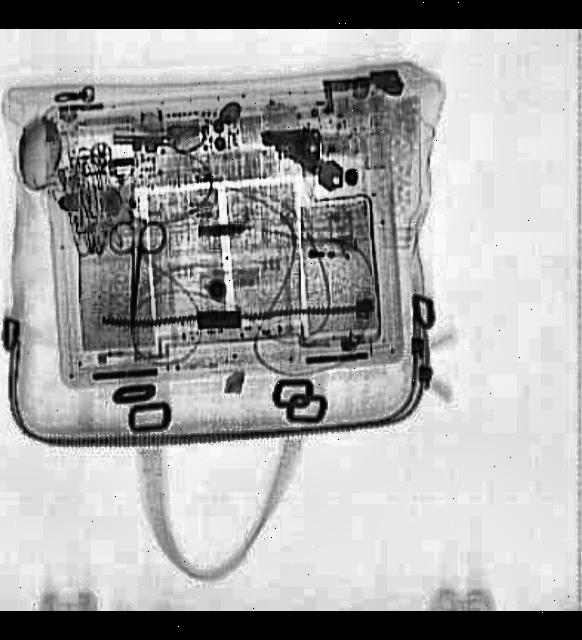Scissors: (107, 222, 167, 332)
